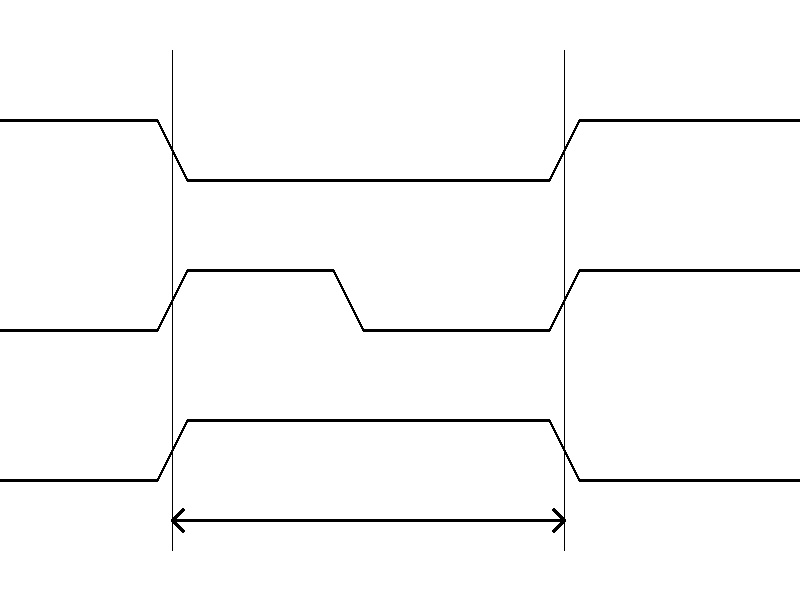double_arrow: (172, 505, 564, 535)
